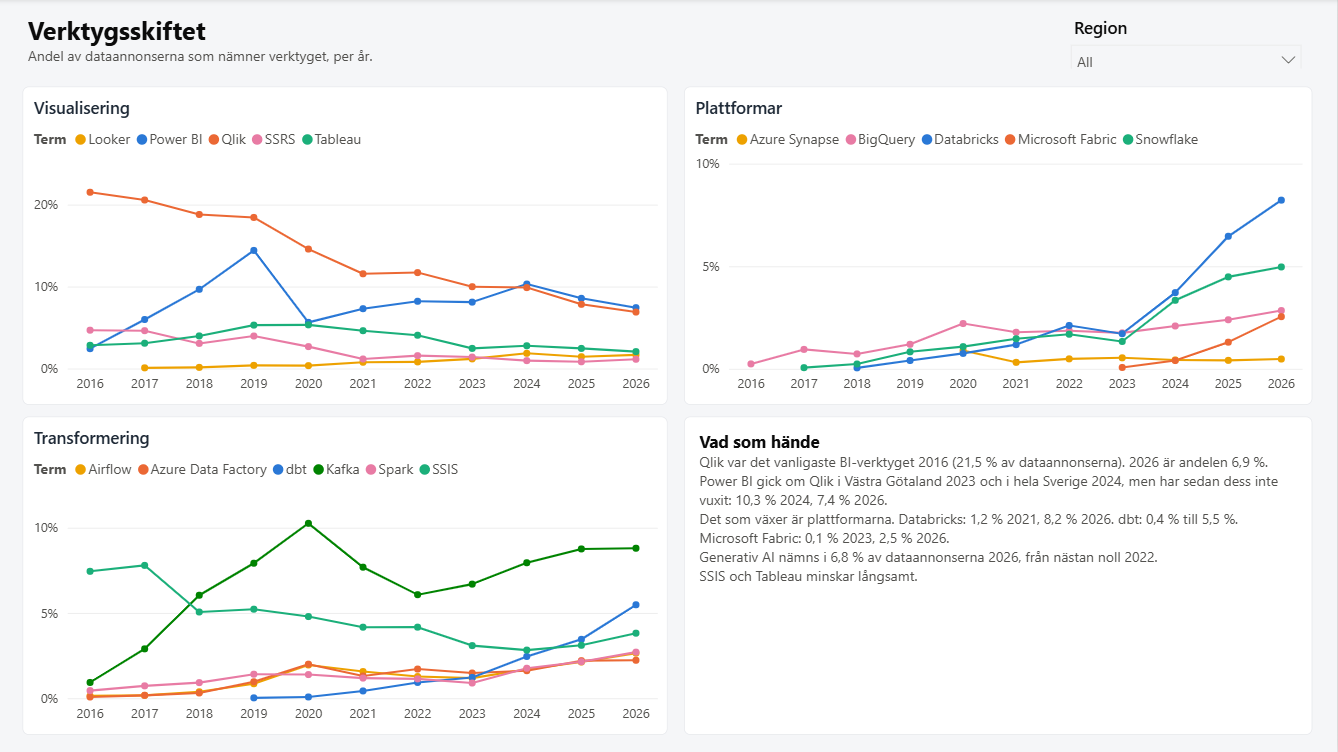

What the dashboard file says about the page in this screenshot:
{"tool":"powerbi","page":{"name":"Verktygsskiftet","canvas":[1280,720],"ordinal":1},"visuals":[{"type":"textbox","box":[24,8,900,64],"z":0},{"type":"slicer","fields":{"Values":["Län.Region"]},"box":[1016,12,240,56],"z":1},{"type":"lineChart","title":"Visualisering","fields":{"Category":["Datum.År"],"Series":["Term.Term"],"Y":["Mått.Andel som nämner term"]},"box":[24,84,616,304],"z":2},{"type":"lineChart","title":"Plattformar","fields":{"Category":["Datum.År"],"Series":["Term.Term"],"Y":["Mått.Andel som nämner term"]},"box":[656,84,600,304],"z":3},{"type":"lineChart","title":"Transformering","fields":{"Category":["Datum.År"],"Series":["Term.Term"],"Y":["Mått.Andel som nämner term"]},"box":[24,400,616,304],"z":4},{"type":"textbox","box":[656,400,600,304],"z":9}]}

Visuals, with their boxes in screenshot pixels (x1, y1, x2, y2), scaled from the page's 1280x720 canvas onto the 1338x752 screenshot:
textbox: select_region(25, 8, 966, 75)
slicer - Län.Region: select_region(1062, 13, 1313, 71)
"Visualisering" lineChart: select_region(25, 88, 669, 405)
"Plattformar" lineChart: select_region(686, 88, 1313, 405)
"Transformering" lineChart: select_region(25, 418, 669, 735)
textbox: select_region(686, 418, 1313, 735)
